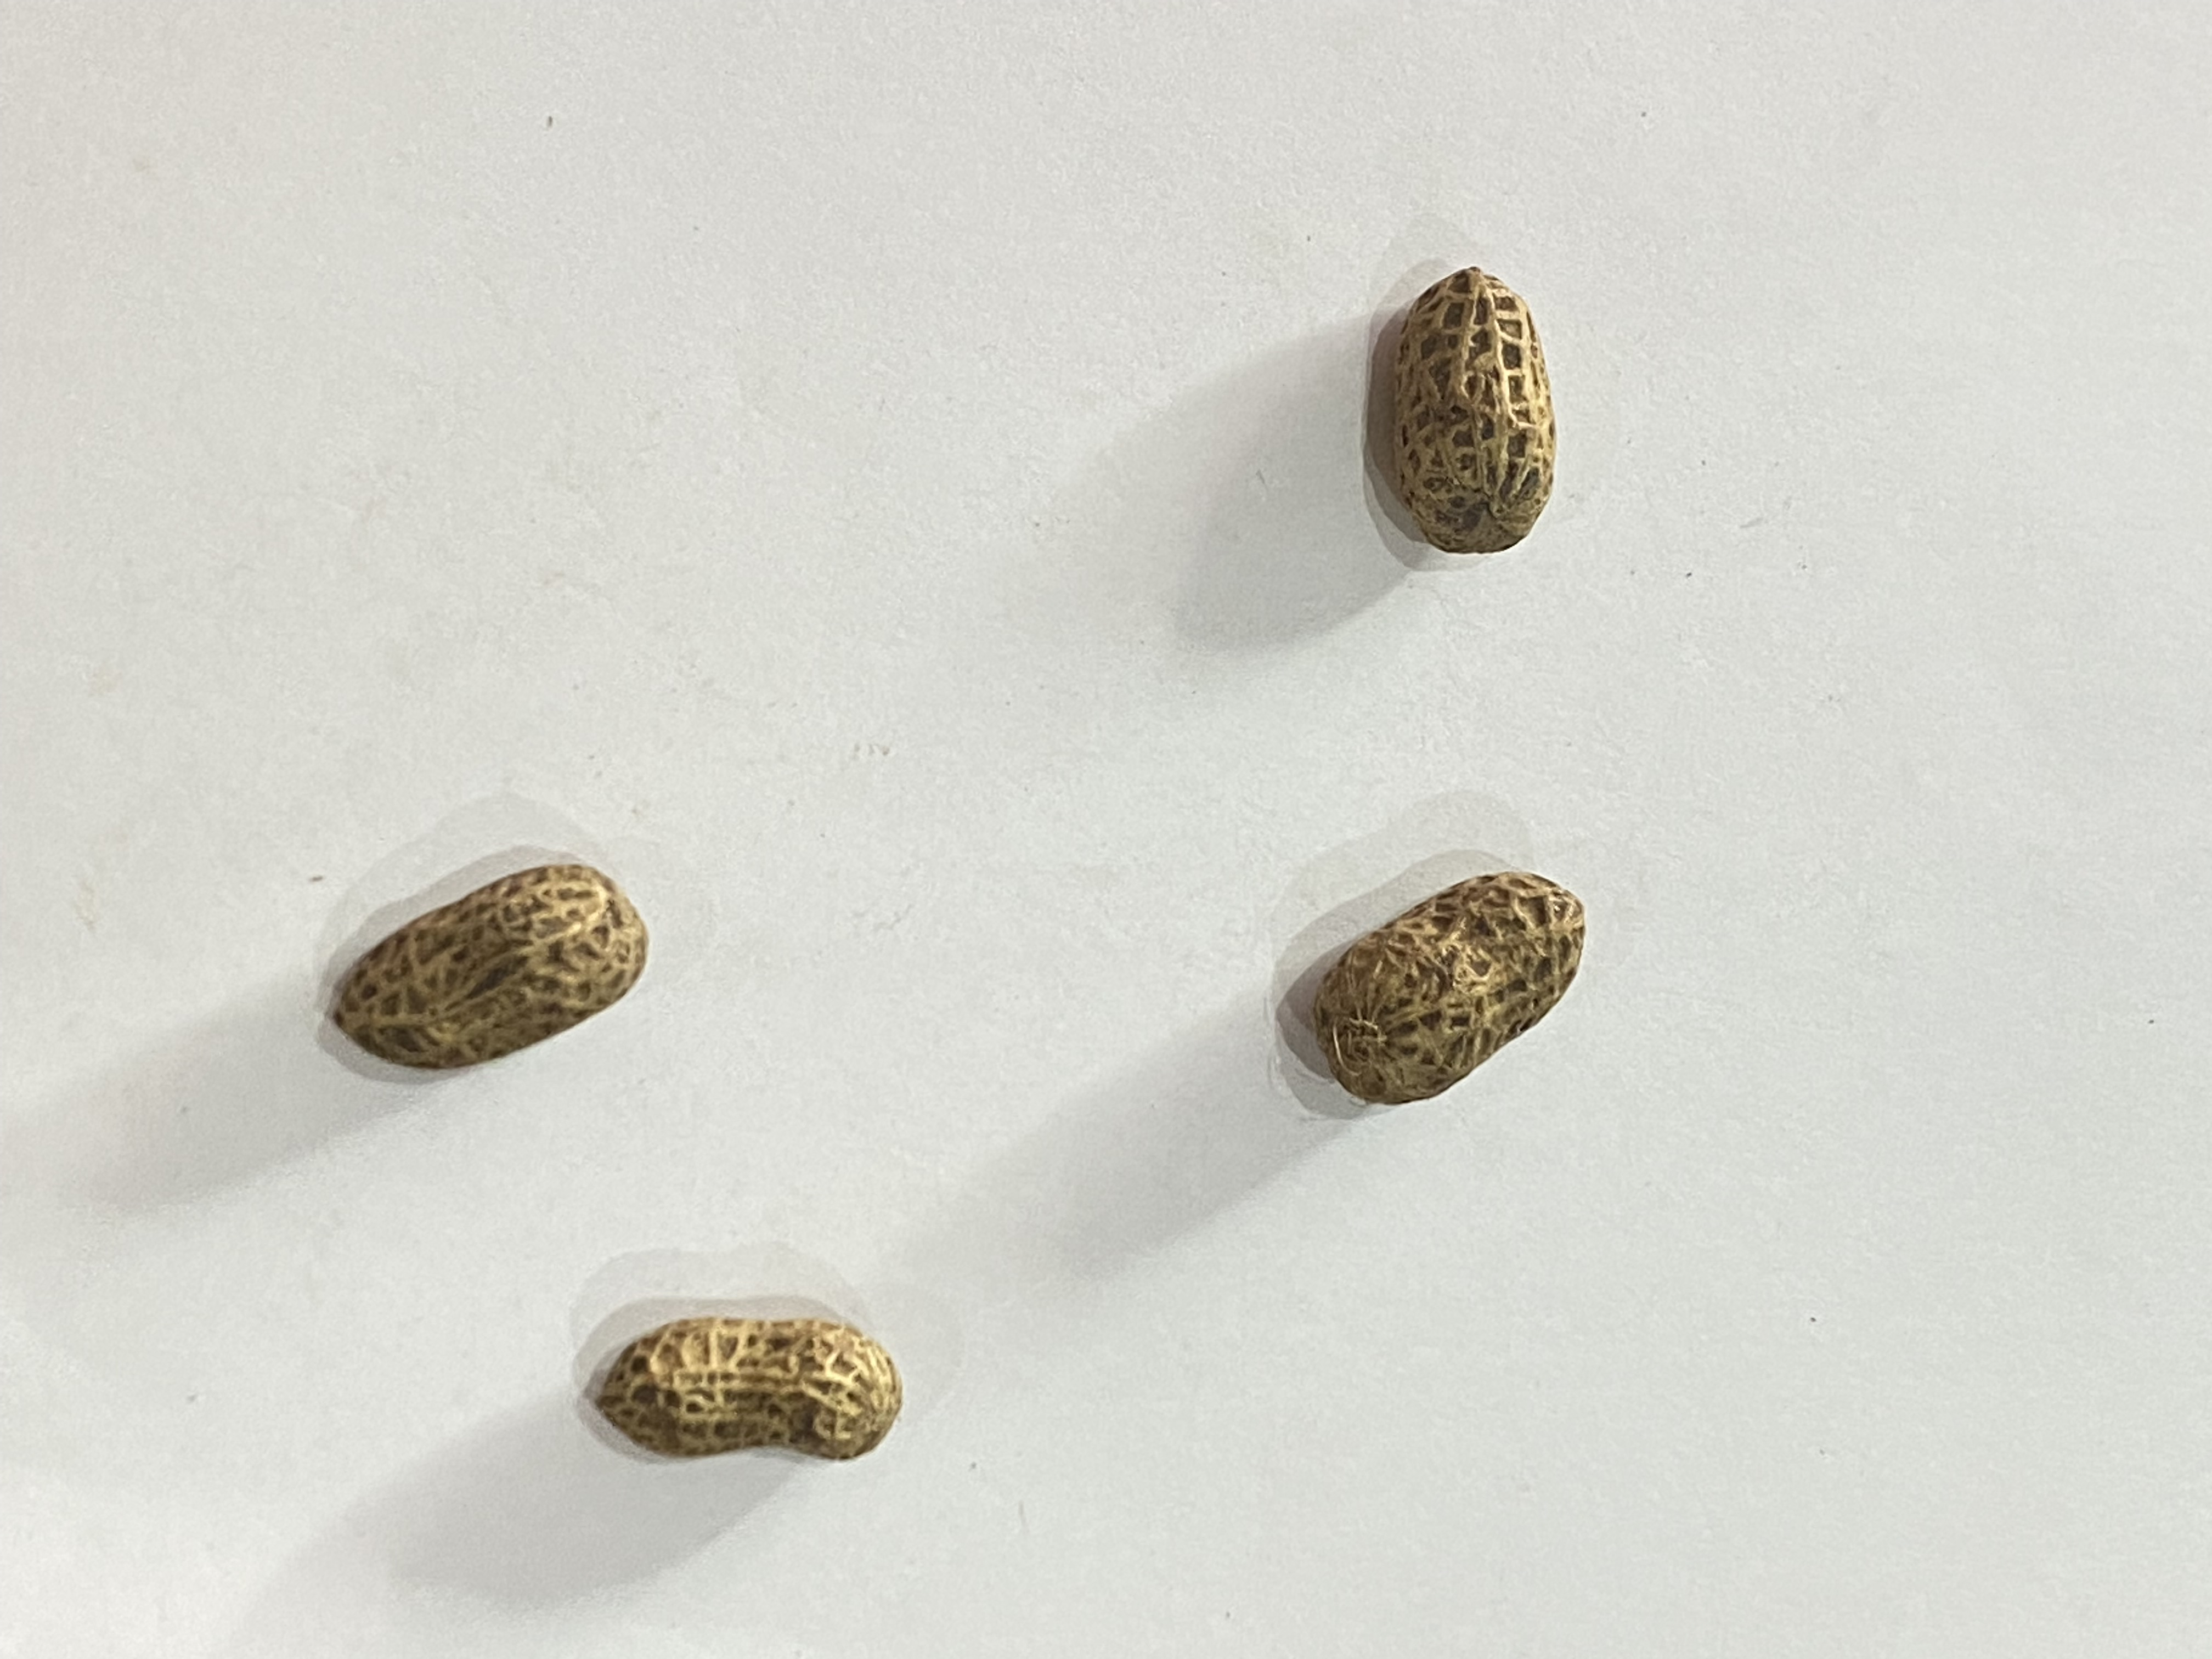kacang1: (1345, 246, 1629, 584), (1285, 857, 1615, 1108), (326, 856, 665, 1086)
kacang2: (577, 1314, 989, 1466)
